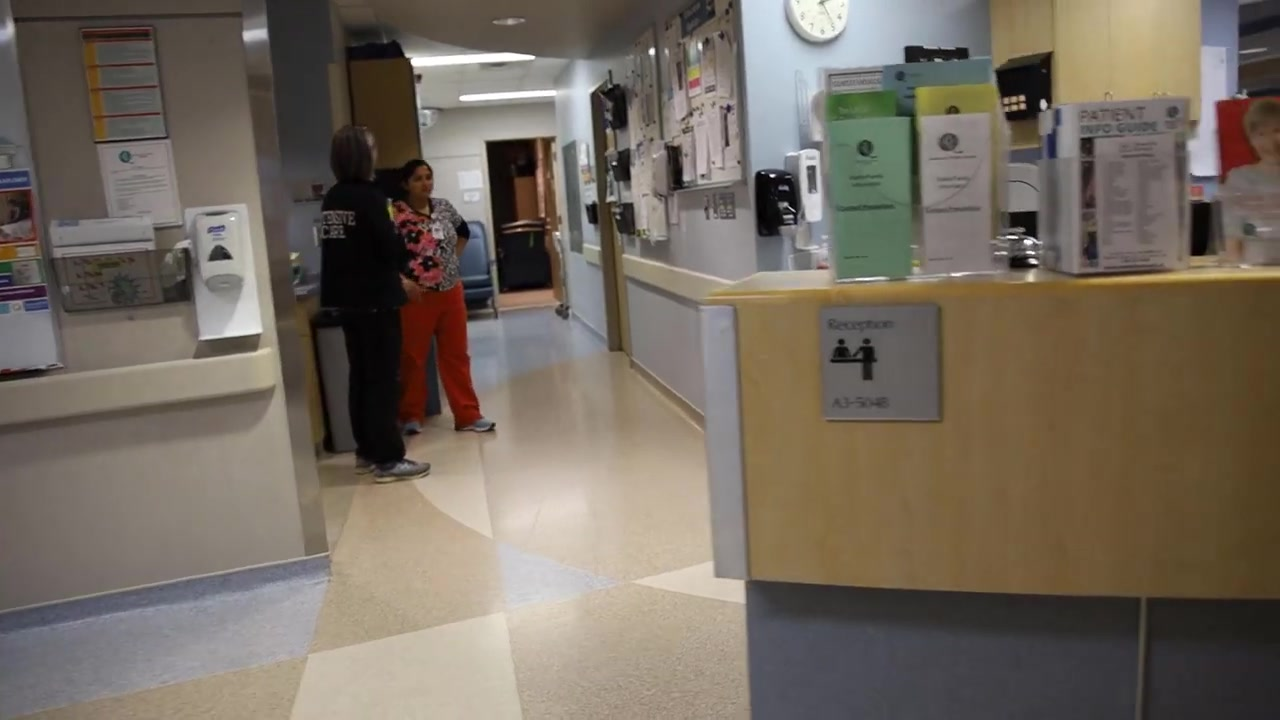cabinet: (992, 1, 1203, 124)
chair: (434, 221, 498, 319)
counter: (706, 265, 1280, 720)
dispenser: (195, 209, 248, 294), (785, 149, 824, 227), (755, 168, 799, 236), (650, 150, 670, 204)
person: (319, 124, 429, 490), (384, 161, 495, 436)
waste_bin: (306, 308, 359, 454)
